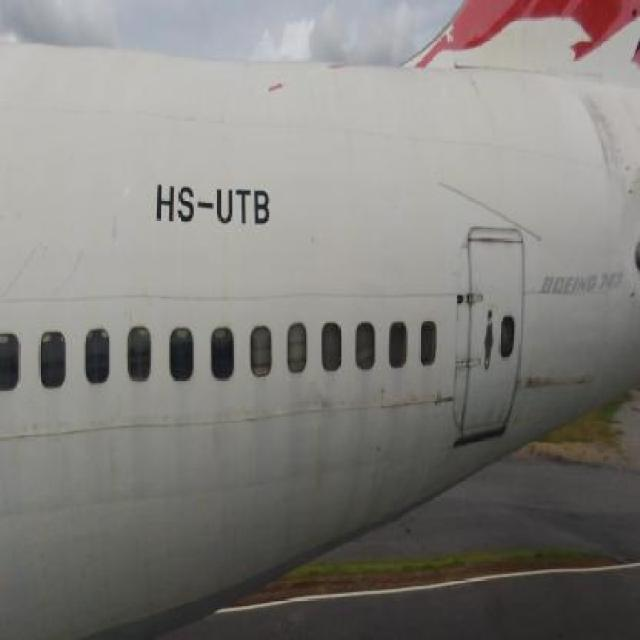Rust: (576, 88, 635, 204), (527, 360, 598, 405), (466, 230, 529, 258), (473, 394, 507, 434)
Scartch: (307, 378, 345, 500), (107, 194, 131, 252), (429, 384, 456, 419), (372, 386, 391, 420)
